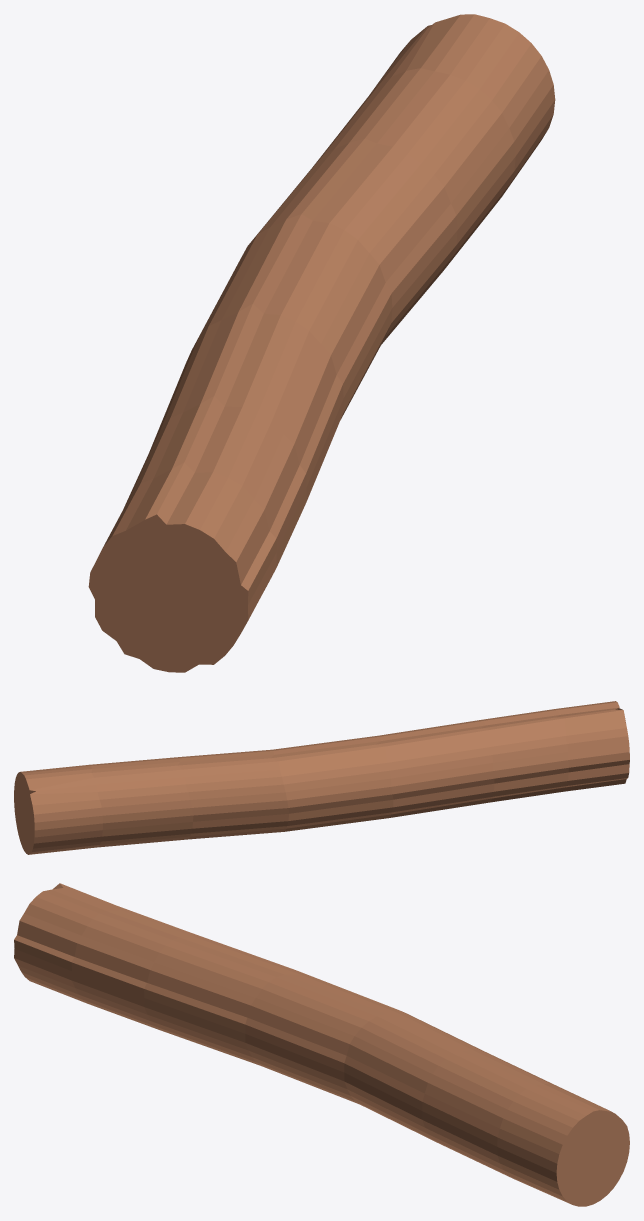
The model's file is kayu.fbx.
3 renders of one model, top to bottom at view 1: azimuth 30°, elevation 25°; view 2: azimuth 150°, elevation 25°; view 3: azimuth 270°, elevation 25°, orthographic. The views are drawn at different scales.
Parts seen in each view (by area): view 1: Trunk; view 2: Trunk; view 3: Trunk.
Boxes of the visible parts, box(x1,y1,x2,y2) form: Trunk: box(88, 14, 555, 672); Trunk: box(14, 701, 629, 854); Trunk: box(14, 883, 629, 1206).
Size of the model in its own units: 267 by 45.61 by 274.
